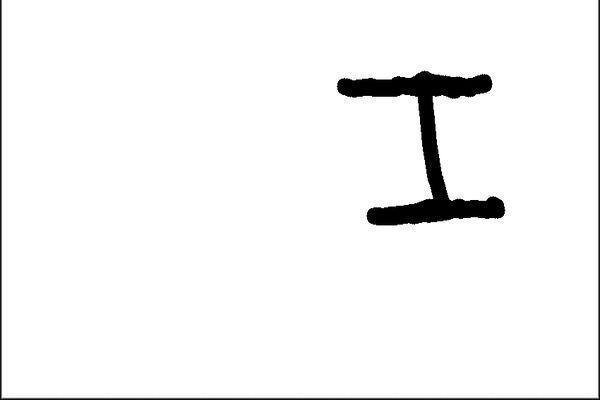i: (334, 59, 513, 237)
